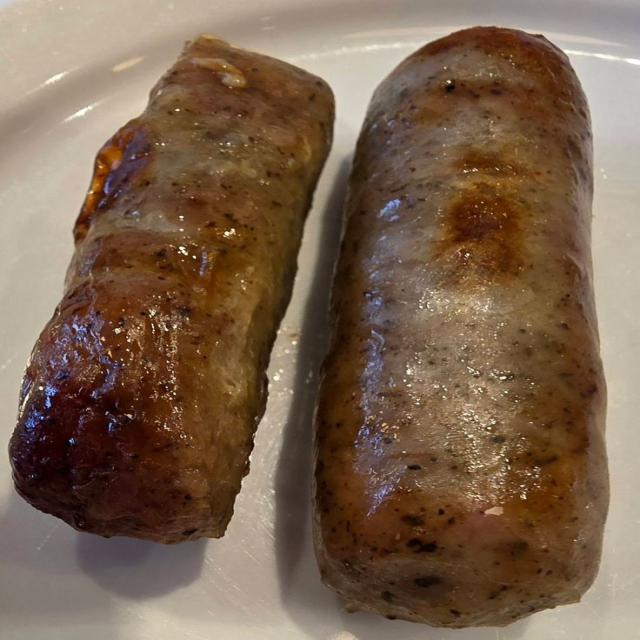sausage: (316, 28, 607, 627), (11, 36, 333, 542)
